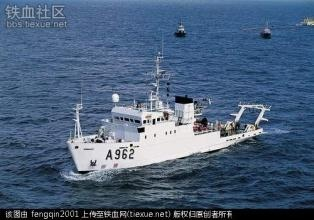otherboat: (66, 63, 273, 172), (257, 19, 276, 40), (172, 17, 190, 38)
